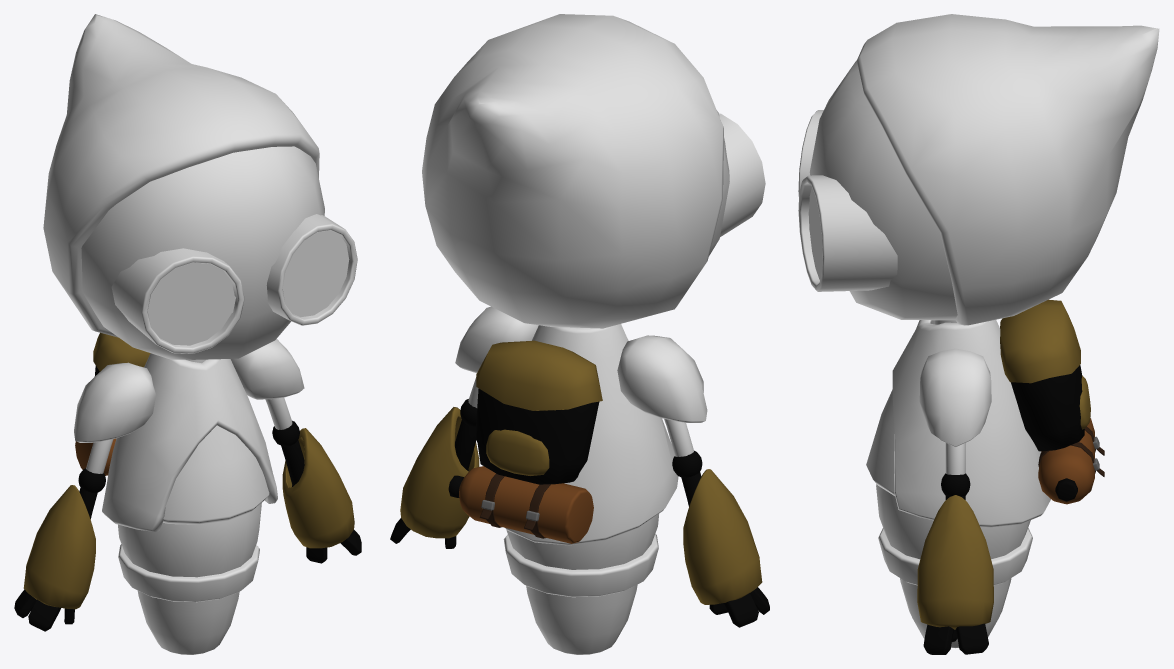
Rendered from L3 combined.fbx.
3 renders of one model, left to right at view 1: azimuth 30°, elevation 25°; view 2: azimuth 150°, elevation 25°; view 3: azimuth 270°, elevation 25°, orthographic. The views are drawn at different scales.
Parts seen in each view (by area): view 1: head, body, thruster, hand_R, hand_L, shoulder_R, shoulder_L, backpack; view 2: head, backpack, body, thruster, hand_R, hand_L, shoulder_R, shoulder_L; view 3: head, body, backpack, hand_L, thruster, shoulder_L.
Part boxes in pixels (box(x1,y1,x2,y2)): head: box(43, 14, 357, 359); body: box(102, 353, 277, 531); thruster: box(118, 503, 261, 654); hand_R: box(14, 468, 105, 631); hand_L: box(272, 420, 361, 563); shoulder_R: box(74, 362, 155, 473); shoulder_L: box(230, 339, 304, 429); backpack: box(75, 332, 150, 475); head: box(422, 14, 765, 328); backpack: box(448, 340, 602, 543); body: box(505, 324, 678, 545); thruster: box(503, 514, 658, 654); hand_R: box(672, 450, 769, 627); hand_L: box(390, 399, 479, 548); shoulder_R: box(617, 335, 707, 456); shoulder_L: box(455, 306, 538, 407); head: box(798, 14, 1159, 325); body: box(866, 319, 1050, 527); backpack: box(1000, 299, 1104, 504); hand_L: box(917, 473, 993, 654); thruster: box(876, 484, 1032, 648); shoulder_L: box(919, 348, 991, 474).
Size of the model in its own units: 0.747 by 1.2 by 0.6487.
